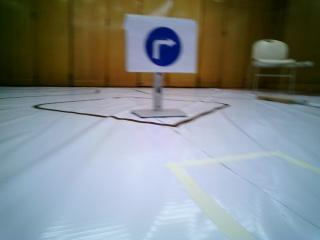right: (128, 15, 195, 72)
